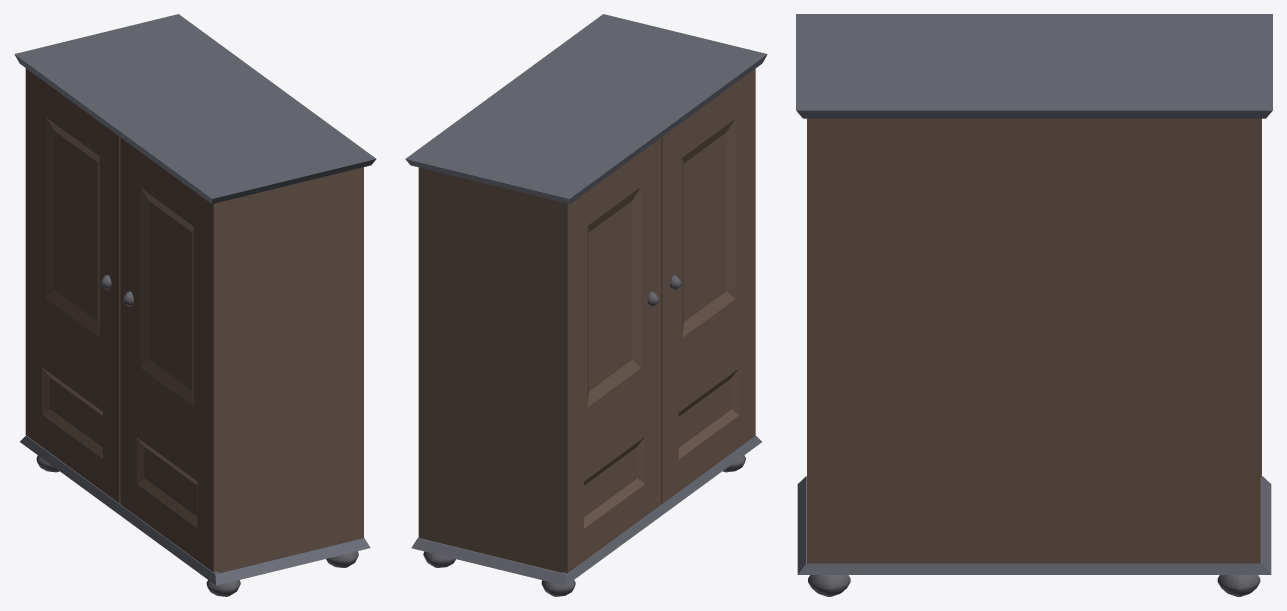
The model's file is Shkaf.fbx.
3 renders of one model, left to right at view 1: azimuth 30°, elevation 25°; view 2: azimuth 150°, elevation 25°; view 3: azimuth 270°, elevation 25°, orthographic. The views are drawn at different scales.
Visible parts, largest first — view 1: Cube.007; view 2: Cube.007; view 3: Cube.007.
Boxes of the visible parts, x1=… form: Cube.007: x1=14, y1=14, x2=376, y2=596; Cube.007: x1=405, y1=14, x2=767, y2=596; Cube.007: x1=796, y1=14, x2=1272, y2=596.
Size of the model in its own units: 131 by 314 by 273.
